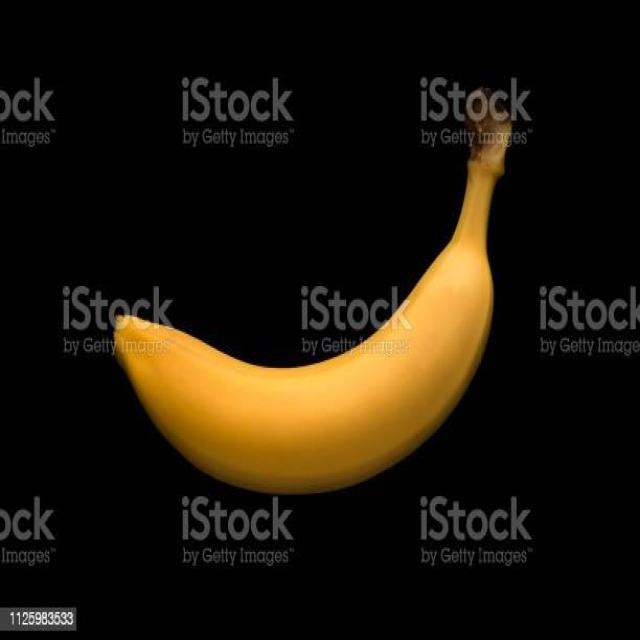non_orange: (115, 118, 512, 496)
